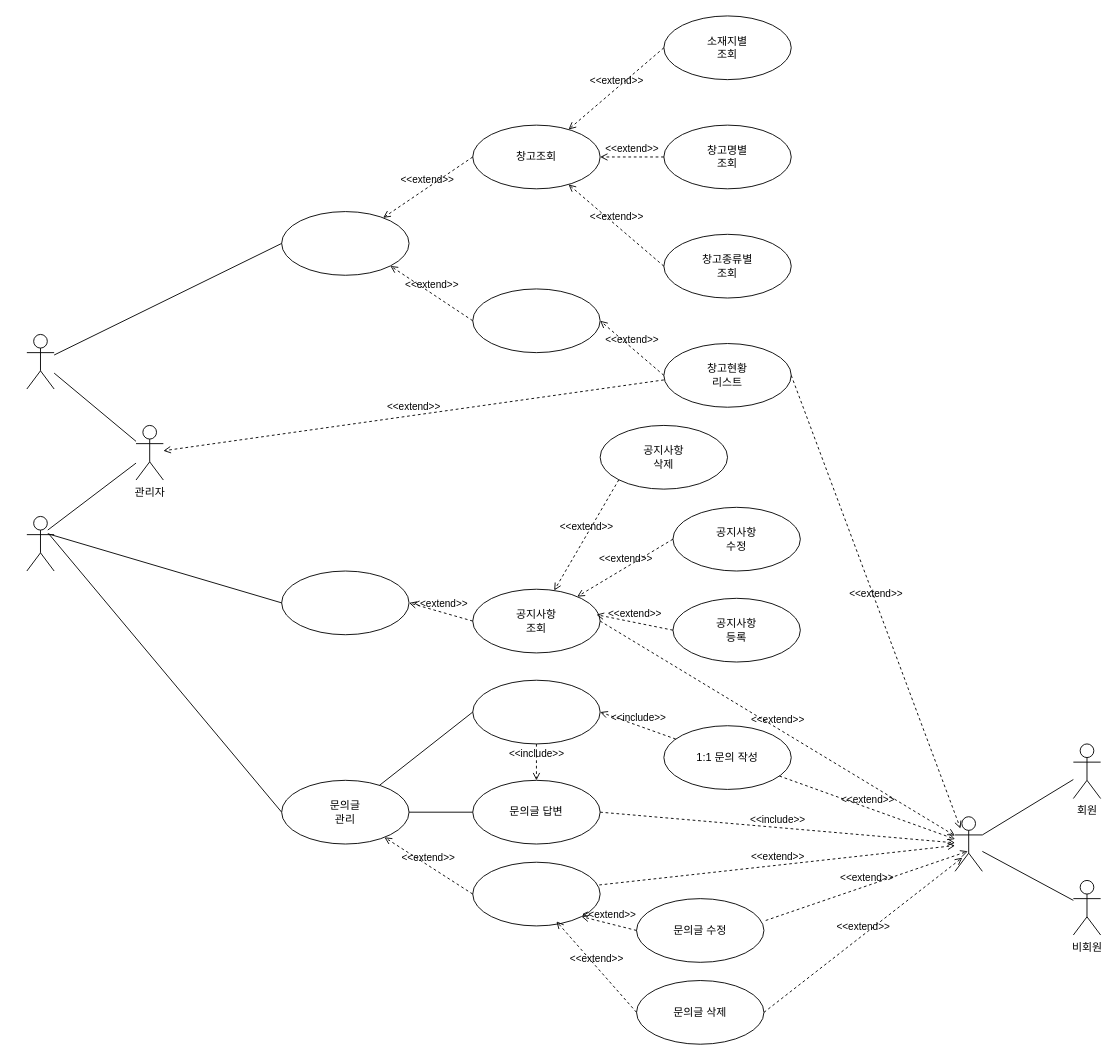
Some shapes in this 1117 by 1060 pixel diagram are drawn without their labels. Here are the shapes that lost their labels. From the top down, the centre of each, then its label:
At (345,243): "창고관리".
At (536,320): "창고등록".
At (40,361): "창고관리자".
At (40,543): "고객센터 관리자".
At (345,602): "공지사항 관리".
At (536,711): "문의글 작성".
At (968,843): "사용자".
At (536,893): "문의글 조회".
